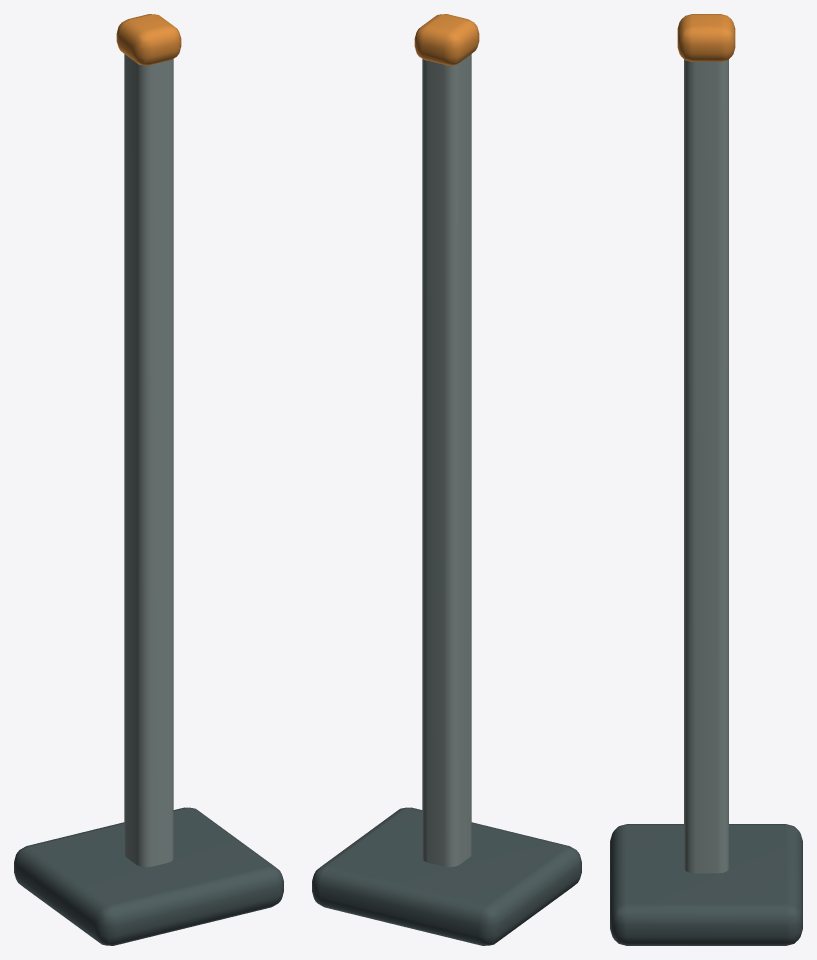
The model's file is wayfinding-post.glb.
The picture shows the model from 3 angles, left to right: view 1: azimuth 30°, elevation 25°; view 2: azimuth 150°, elevation 25°; view 3: azimuth 270°, elevation 25°; orthographic projection.
Visible parts, largest first — view 1: wayfinding-post / 05 • brushed titanium, wayfinding-post / 06 • dark anodized frame, wayfinding-post / 03 • ochre enamel; view 2: wayfinding-post / 05 • brushed titanium, wayfinding-post / 06 • dark anodized frame, wayfinding-post / 03 • ochre enamel; view 3: wayfinding-post / 05 • brushed titanium, wayfinding-post / 06 • dark anodized frame, wayfinding-post / 03 • ochre enamel.
Boxes of the visible parts, <box> form: wayfinding-post / 05 • brushed titanium: <box>124,54,173,867</box>; wayfinding-post / 06 • dark anodized frame: <box>14,807,283,945</box>; wayfinding-post / 03 • ochre enamel: <box>116,14,181,65</box>; wayfinding-post / 05 • brushed titanium: <box>422,54,471,867</box>; wayfinding-post / 06 • dark anodized frame: <box>312,807,581,945</box>; wayfinding-post / 03 • ochre enamel: <box>414,14,479,65</box>; wayfinding-post / 05 • brushed titanium: <box>684,59,728,873</box>; wayfinding-post / 06 • dark anodized frame: <box>610,824,802,945</box>; wayfinding-post / 03 • ochre enamel: <box>677,14,735,61</box>.
Size of the model in its own units: 0.34 by 1.52 by 0.3.
